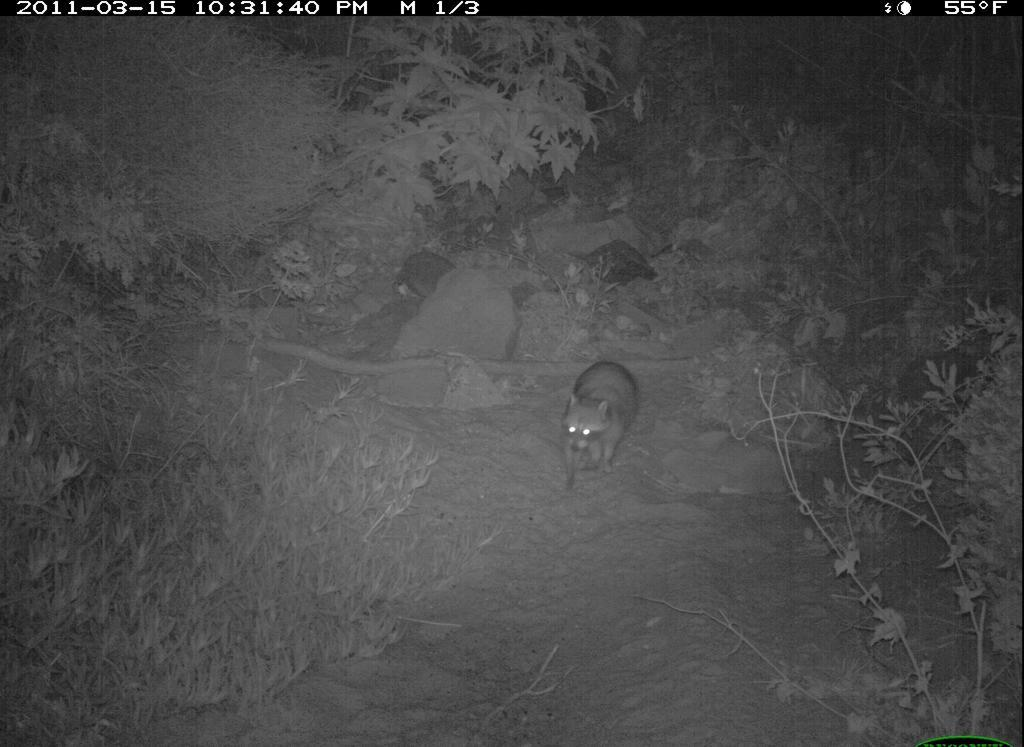raccoon: (556, 354, 647, 495)
